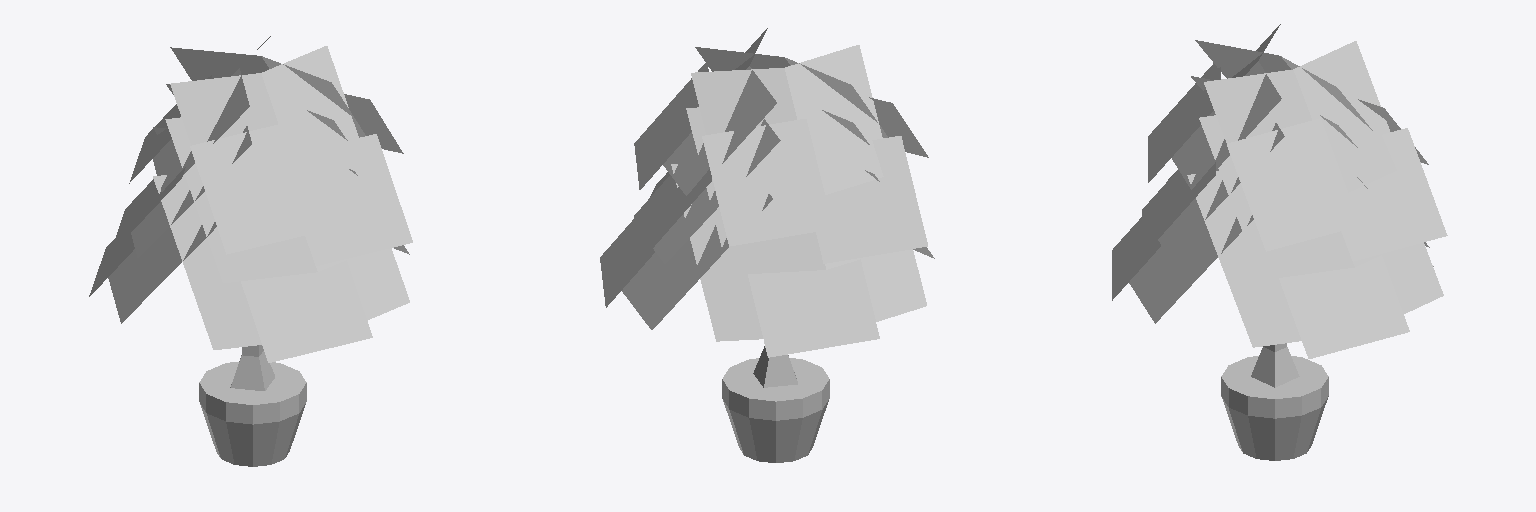
Rendered from Berry Tree3.obj.
3 views of the same model, side by side, from view 1: azimuth 30°, elevation 25°; view 2: azimuth 150°, elevation 25°; view 3: azimuth 270°, elevation 25° (orthographic).
Visible parts, largest first — view 1: kinominoki1_kinominoki1_kinominoki.png; view 2: kinominoki1_kinominoki1_kinominoki.png; view 3: kinominoki1_kinominoki1_kinominoki.png.
Boxes of the visible parts, x1=… form: kinominoki1_kinominoki1_kinominoki.png: x1=89, y1=36, x2=412, y2=466; kinominoki1_kinominoki1_kinominoki.png: x1=600, y1=28, x2=934, y2=462; kinominoki1_kinominoki1_kinominoki.png: x1=1112, y1=24, x2=1447, y2=460.
Bounding box in the file's own units: 2.2 × 2.63 × 2.08.